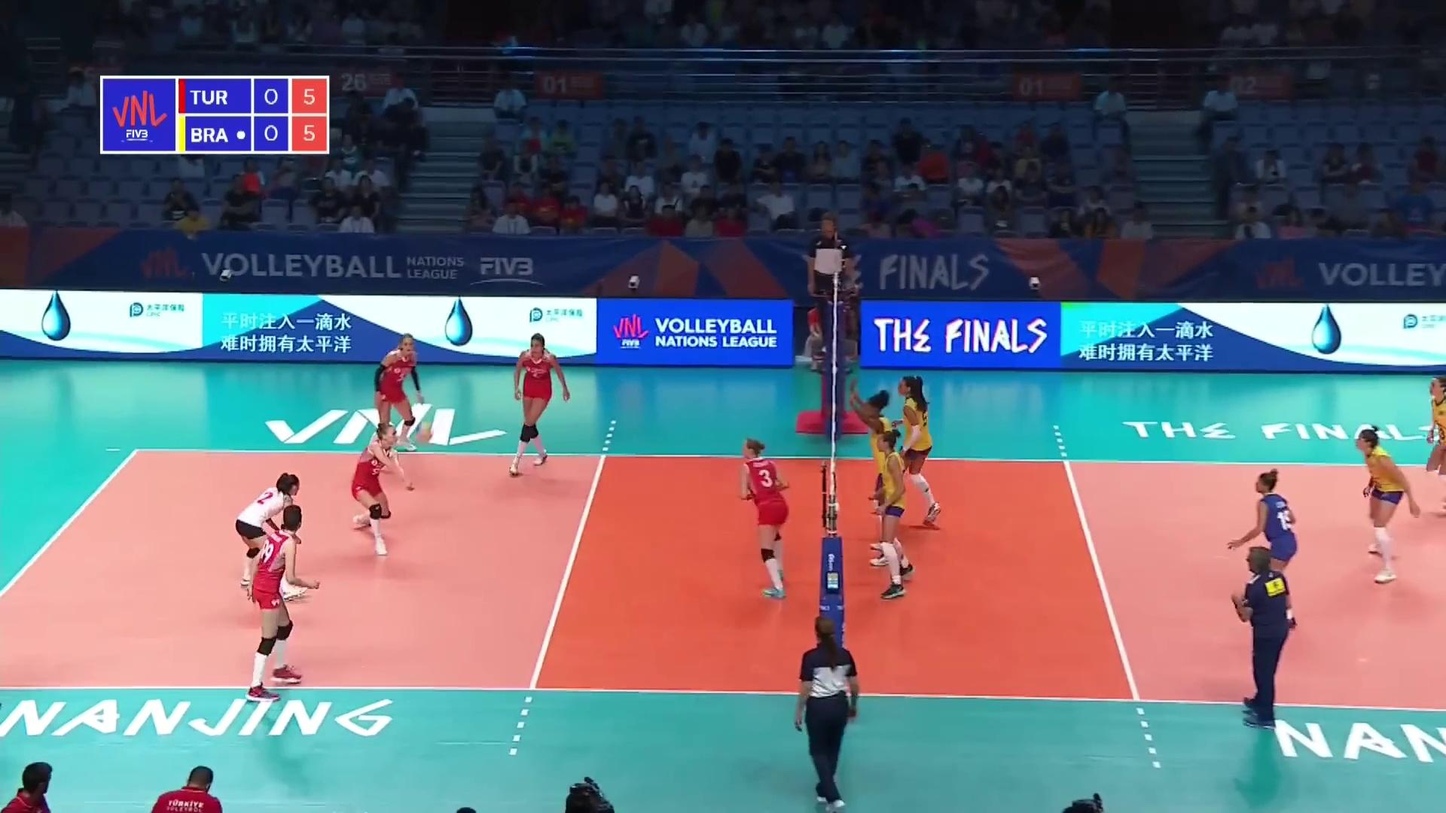player: (248, 510, 320, 699), (1357, 428, 1423, 586), (1231, 469, 1298, 620), (850, 380, 902, 562), (235, 475, 310, 600), (877, 375, 940, 523), (736, 437, 792, 597), (509, 334, 569, 475), (351, 425, 415, 557), (878, 429, 912, 596), (375, 334, 425, 446), (1421, 376, 1446, 520)
refree: (797, 618, 859, 813), (806, 211, 855, 367)
